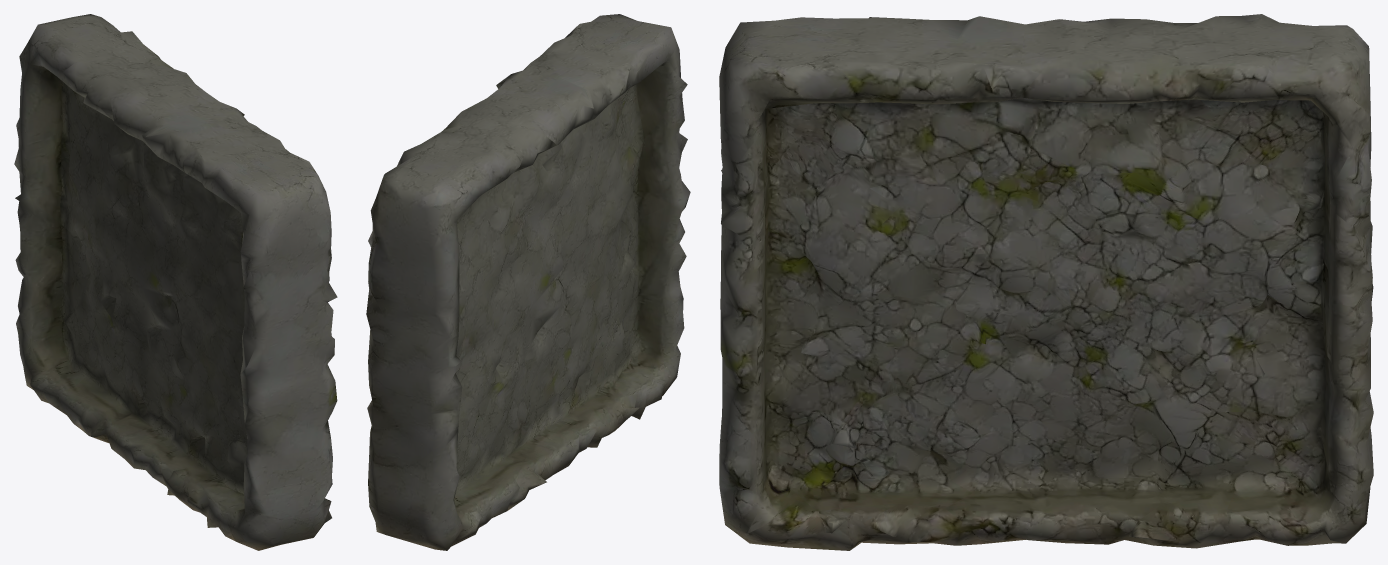
File: slab.glb
3 renders of one model, left to right at view 1: azimuth 30°, elevation 25°; view 2: azimuth 150°, elevation 25°; view 3: azimuth 270°, elevation 25°, orthographic. The views are drawn at different scales.
Visible parts, largest first — view 1: tripo_node_b980a27d-0f83-4a0d-b47f-4ce2ebaad774; view 2: tripo_node_b980a27d-0f83-4a0d-b47f-4ce2ebaad774; view 3: tripo_node_b980a27d-0f83-4a0d-b47f-4ce2ebaad774.
Part boxes in pixels (bbox=[...]): tripo_node_b980a27d-0f83-4a0d-b47f-4ce2ebaad774: bbox=[14, 14, 337, 550]; tripo_node_b980a27d-0f83-4a0d-b47f-4ce2ebaad774: bbox=[366, 14, 690, 550]; tripo_node_b980a27d-0f83-4a0d-b47f-4ce2ebaad774: bbox=[719, 14, 1373, 550].
Bounding box in the file's own units: 0.2495 × 0.8263 × 1.
1 material, 1 textured.
